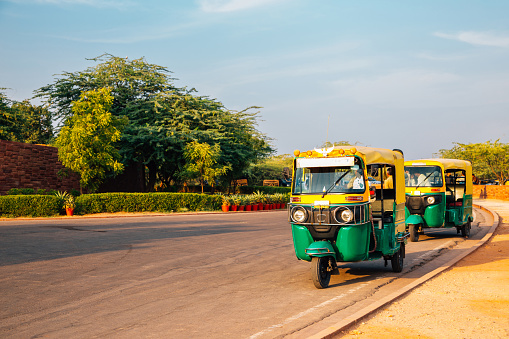threewheel: (287, 146, 410, 289), (405, 158, 473, 242)
